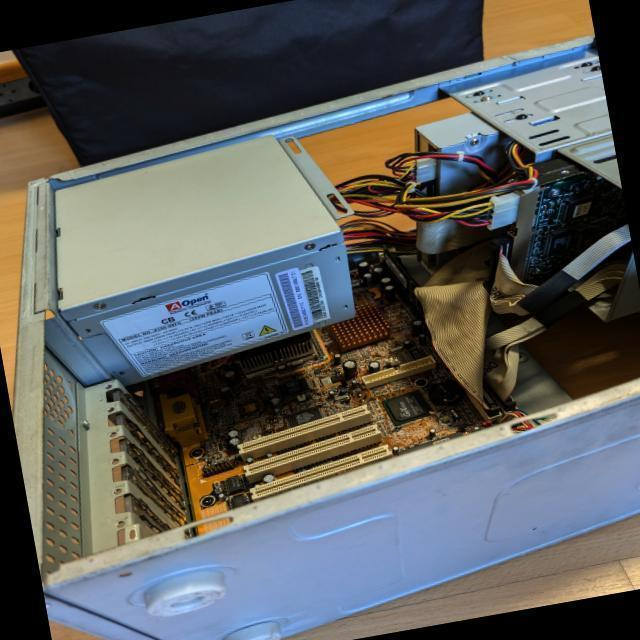CPU_Fan: (235, 330, 318, 374)
DISK: (480, 147, 636, 290)
Mainboard: (147, 228, 518, 537)
PSU: (32, 124, 364, 395)
RAM: (378, 239, 430, 325)
